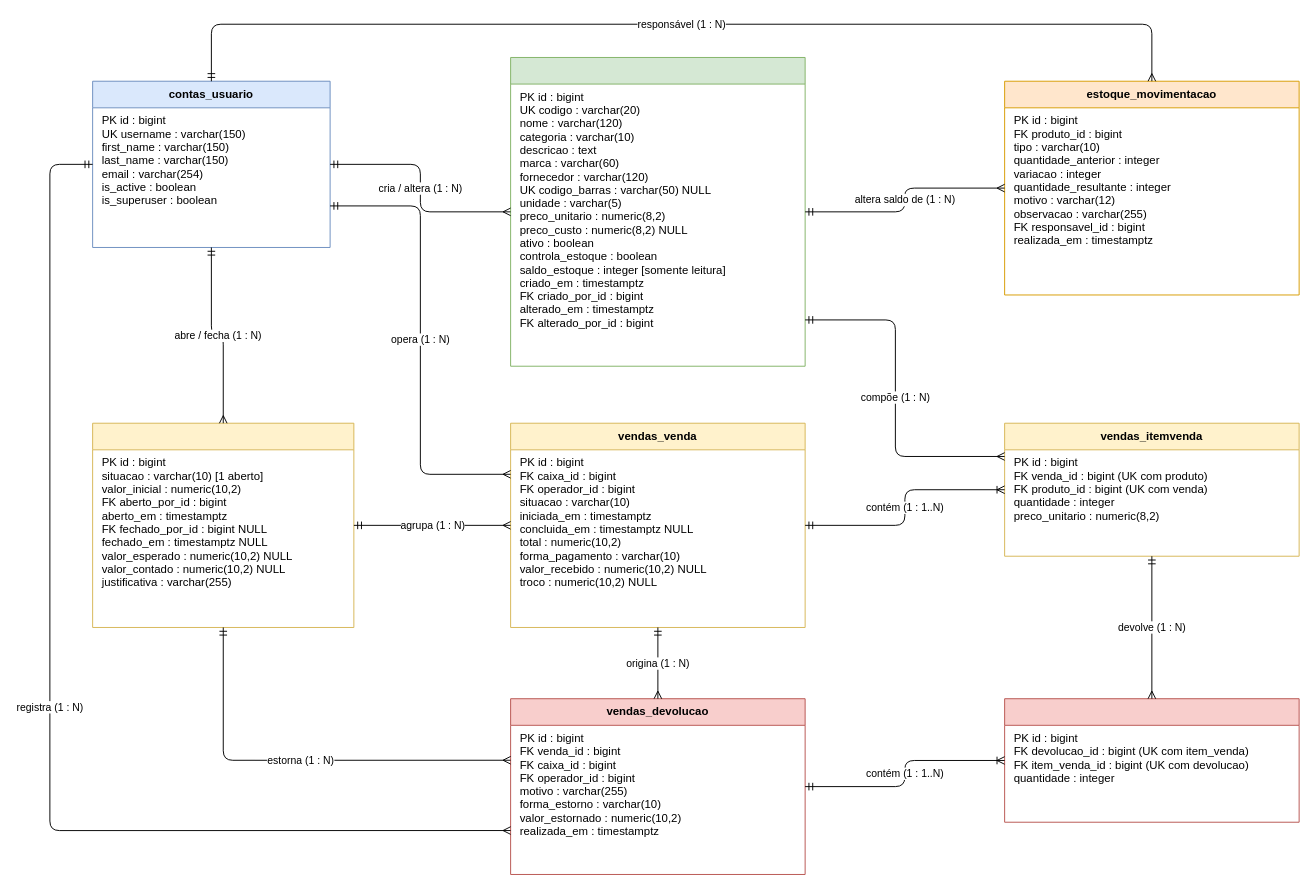
Image size: 1316x894. Some labels were removed from this diagram. Here are the shapes that lost their labels. From the top down, the box of each, then its label:
(510, 57, 805, 366): catalogo_produto
(92, 422, 354, 627): vendas_caixa
(1004, 698, 1299, 822): vendas_itemdevolucao
